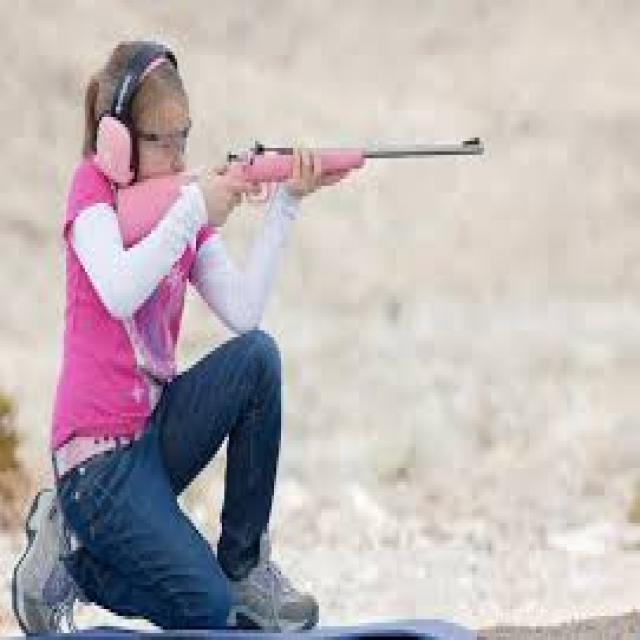gun: (105, 114, 506, 307)
